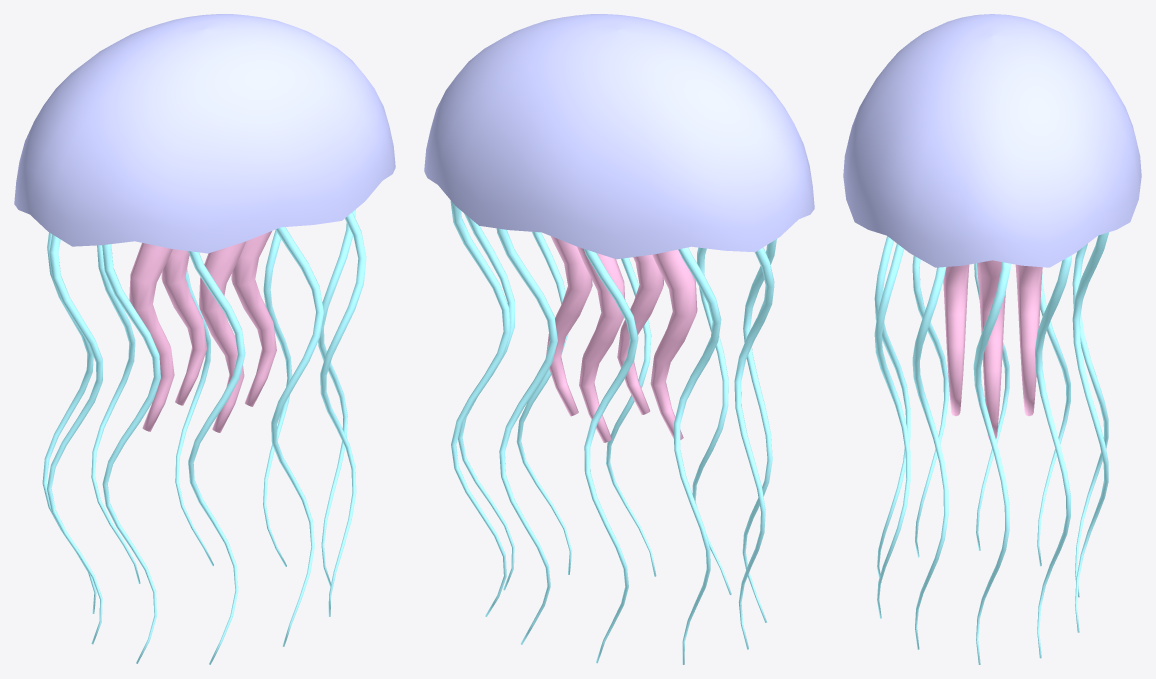
Rendered from jelly.glb.
The picture shows the model from 3 angles, left to right: view 1: azimuth 30°, elevation 25°; view 2: azimuth 150°, elevation 25°; view 3: azimuth 270°, elevation 25°; orthographic projection. The views are drawn at different scales.
Visible parts, largest first — view 1: Moon jelly; view 2: Moon jelly; view 3: Moon jelly.
Boxes of the visible parts, <box> form: Moon jelly: <box>14,14,395,664</box>; Moon jelly: <box>424,14,814,664</box>; Moon jelly: <box>843,14,1141,664</box>.
Size of the model in its own units: 1.3 by 2.06 by 0.975.
